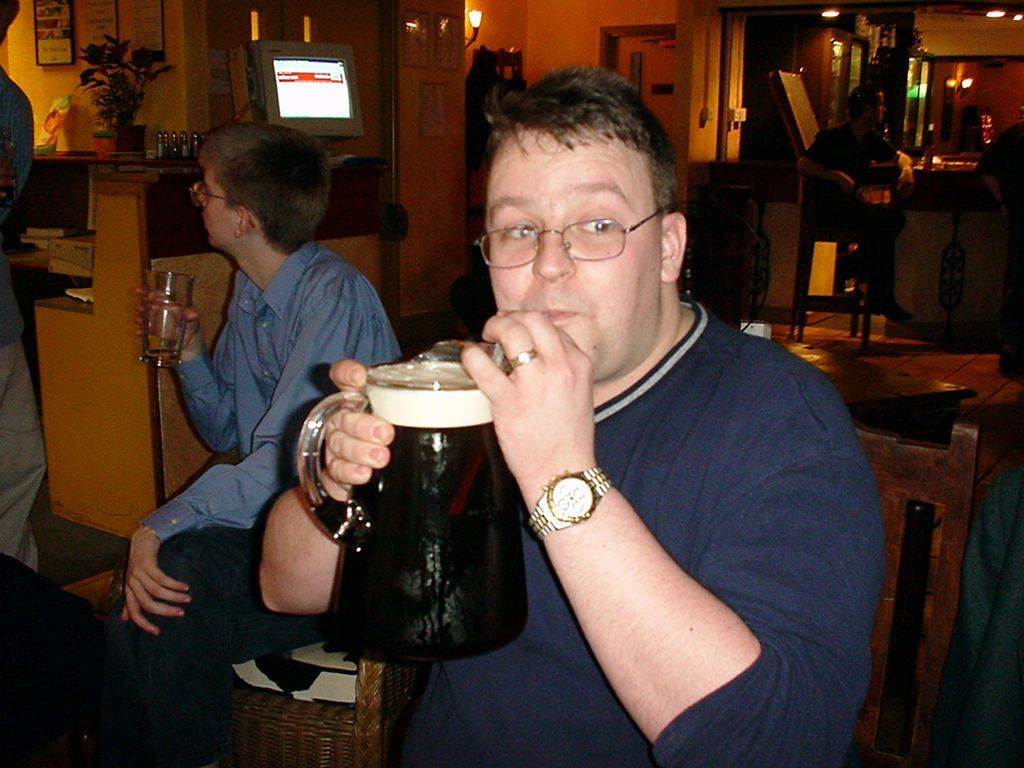Beer: (330, 340, 522, 672)
